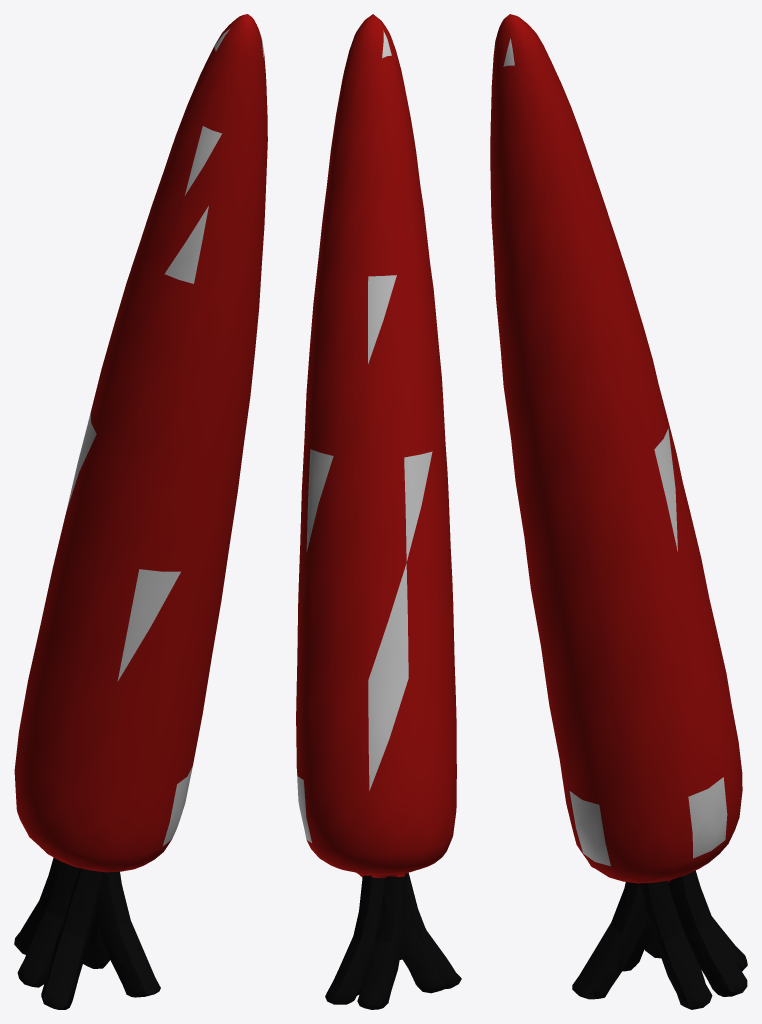
The picture shows the model from 3 angles, left to right: view 1: azimuth 30°, elevation 25°; view 2: azimuth 150°, elevation 25°; view 3: azimuth 270°, elevation 25°; orthographic projection. The views are drawn at different scales.
Visible parts, largest first — view 1: 340; view 2: 340; view 3: 340.
Boxes of the visible parts, <box> form: 340: <box>14,14,267,1009</box>; 340: <box>296,14,461,1009</box>; 340: <box>490,14,747,1009</box>.
Bounding box in the file's own units: 11.93 × 14.18 × 62.17.
